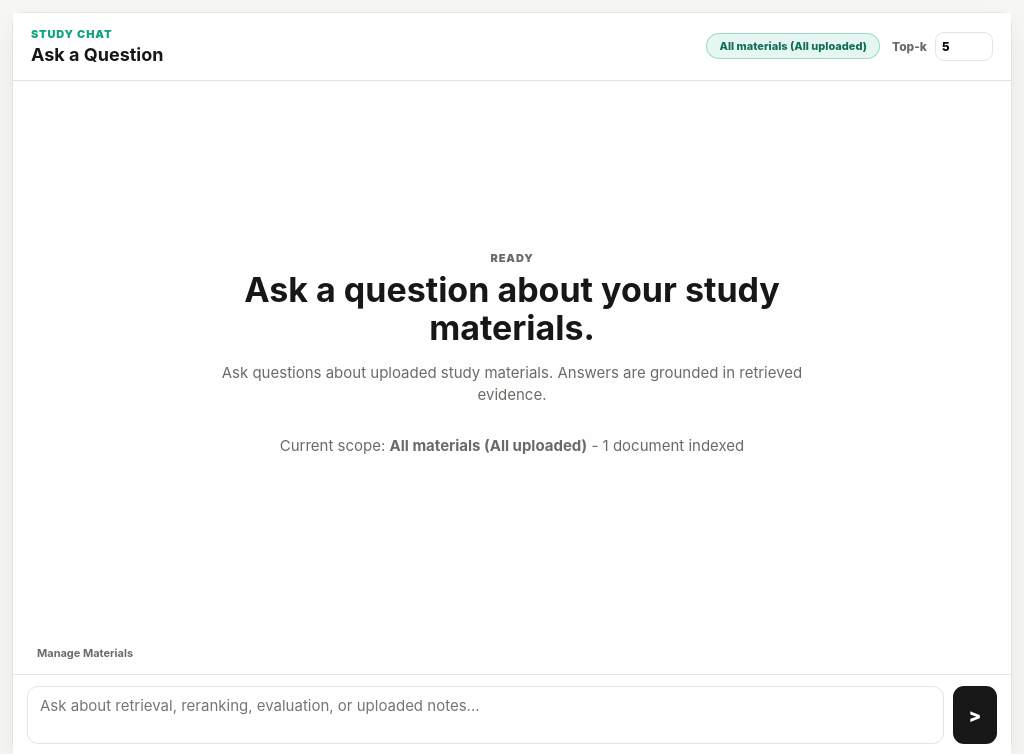
Test: React product workbench › renders multi-intent support status per sub-question
The image size is (1024, 754).
(page scrolled)
Type "what is word2vec? and what is transformer?" into the text box named "study question" at (486, 715), box [27,686,944,744]
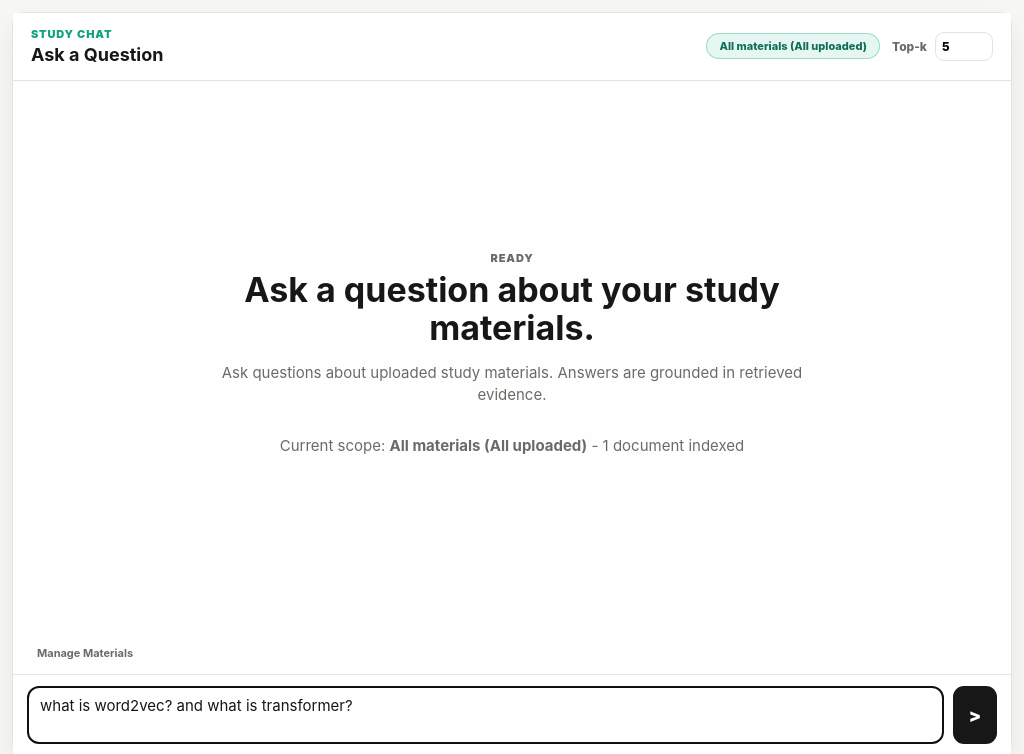
Click the button "Send" at (975, 715), box [953,686,997,744]
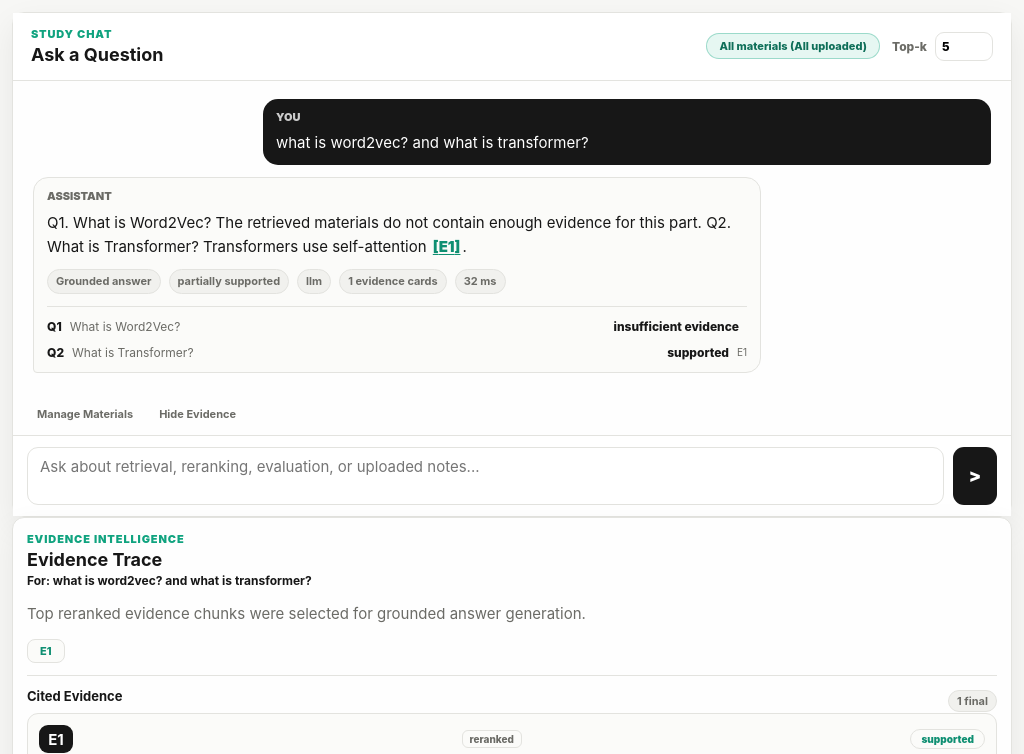
Check: the text "partially supported" is shown, box [169,269,289,294]
Check: the text "What is Word2Vec?" is shown, box [70,320,180,334]
Check: the text "insufficient evidence" is shown, box [614,318,739,337]
